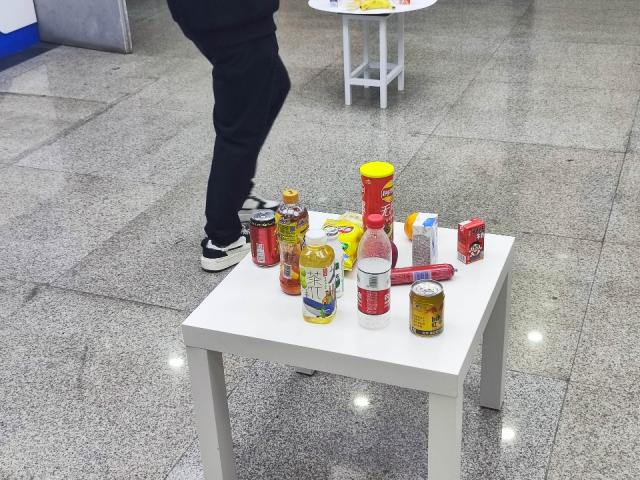Canned_drinks: (406, 277, 447, 353), (251, 206, 279, 270)
bottle: (360, 213, 392, 332)
drink_box: (406, 206, 443, 267), (453, 216, 485, 268)
